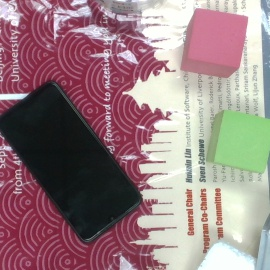phone: (1, 81, 144, 244)
